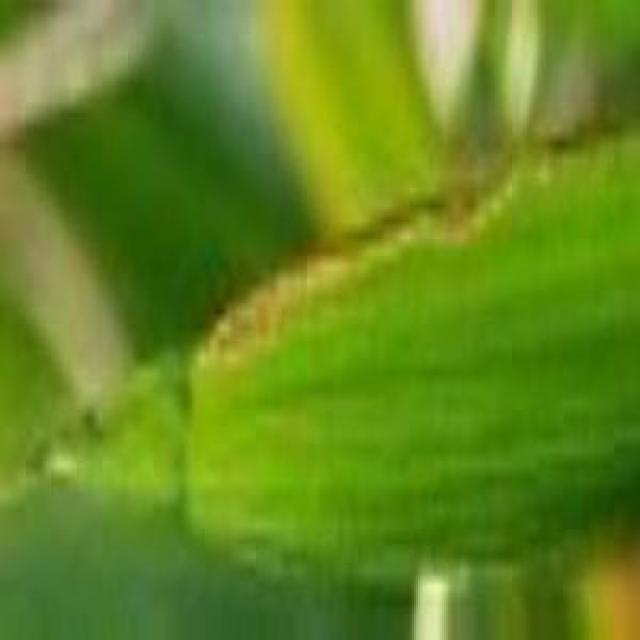Bacterial_Blight: (123, 132, 561, 380)
